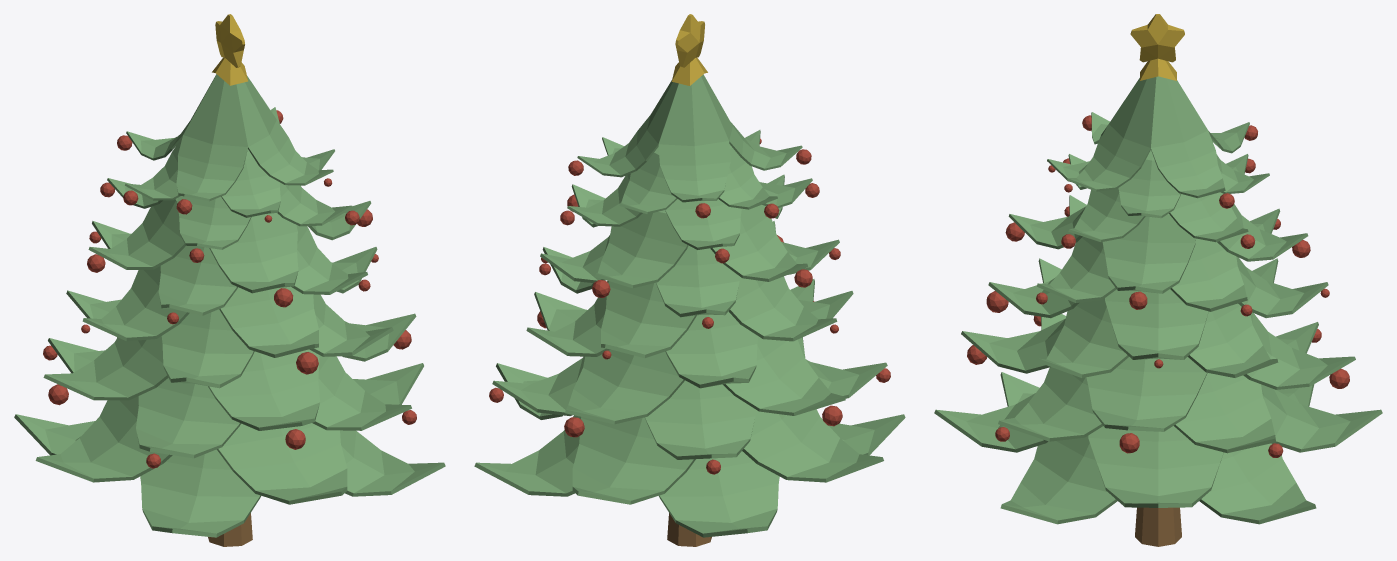
Rendered from ChristmasTree.fbx.
3 renders of one model, left to right at view 1: azimuth 30°, elevation 25°; view 2: azimuth 150°, elevation 25°; view 3: azimuth 270°, elevation 25°, orthographic.
Visible parts, largest first — view 1: Cylinder; view 2: Cylinder; view 3: Cylinder.
Part boxes in pixels (left/top/right/bottom): Cylinder: left=14, top=14, right=445, bottom=546; Cylinder: left=474, top=14, right=905, bottom=546; Cylinder: left=934, top=14, right=1382, bottom=546.
Bounding box in the file's own units: 451 × 580 × 451.
